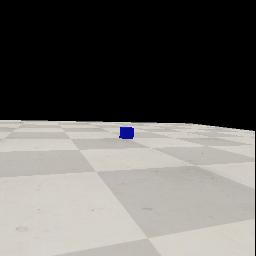box: (119, 127, 134, 139)
